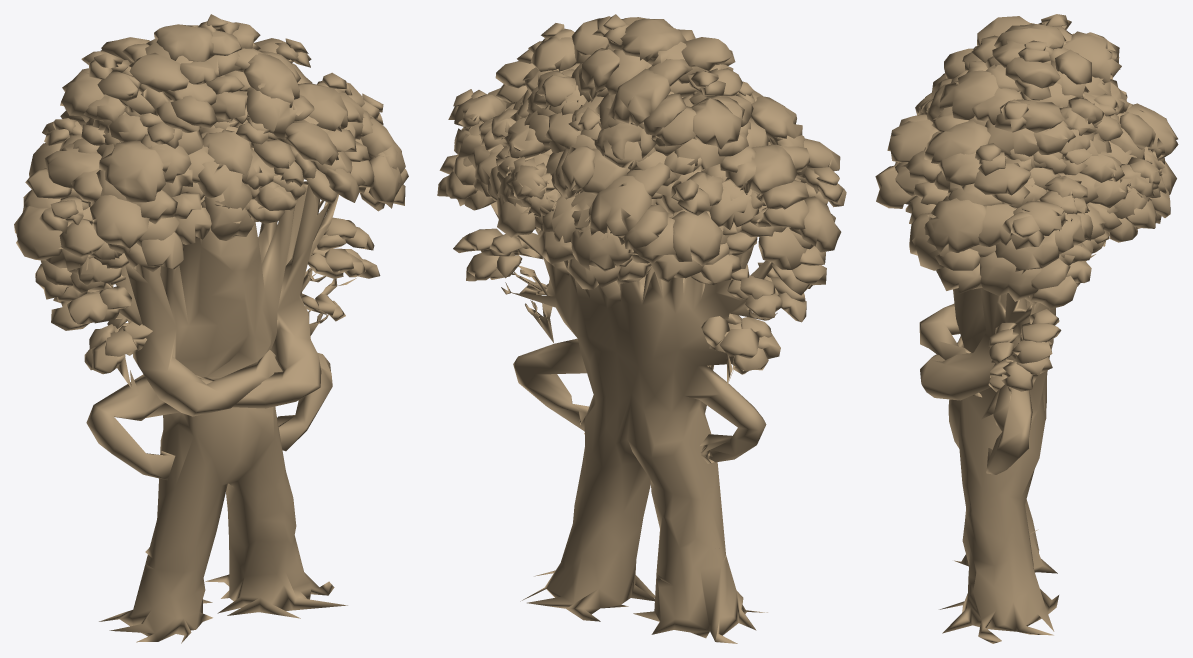
File: living-tree.glb
3 views of the same model, side by side, from view 1: azimuth 30°, elevation 25°; view 2: azimuth 150°, elevation 25°; view 3: azimuth 270°, elevation 25° (orthographic). The views are drawn at different scales.
Visible parts, largest first — view 1: living-tree; view 2: living-tree; view 3: living-tree.
Part boxes in pixels (x1,y1,x2,y2): living-tree: (14,14,408,643); living-tree: (437,14,846,643); living-tree: (875,14,1178,643).
Bounding box in the file's own units: 80.52 × 123 × 60.49.
